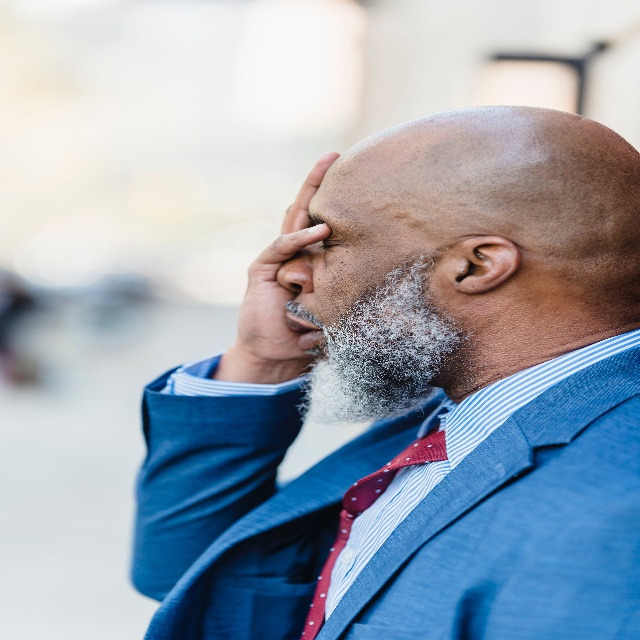Sin_guantes: (228, 155, 340, 372)
